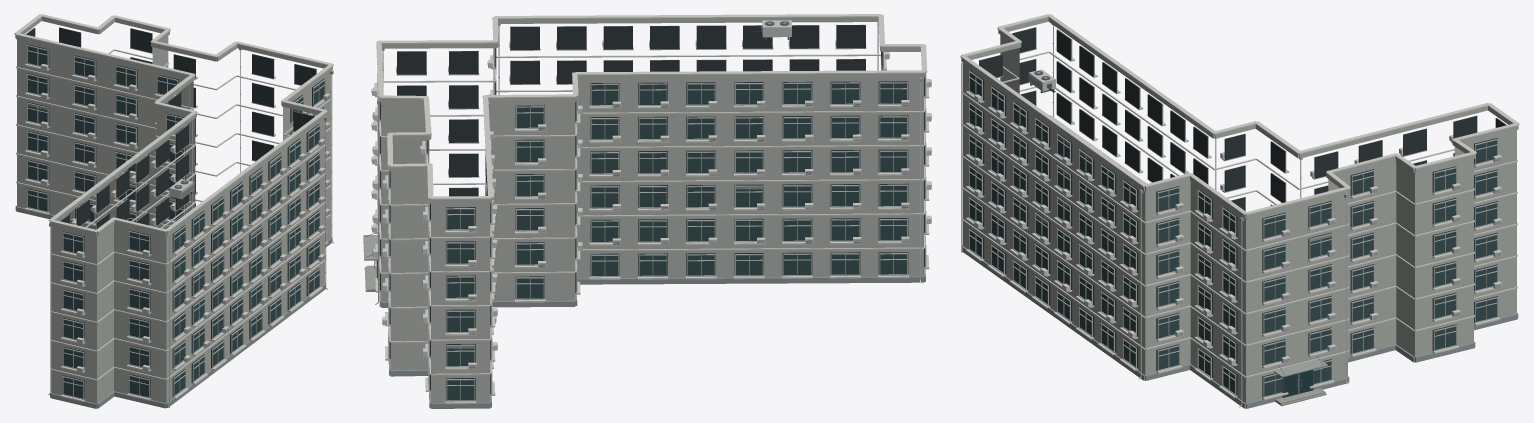
The model's file is osm_way_225250617.glb.
3 renders of one model, left to right at view 1: azimuth 30°, elevation 25°; view 2: azimuth 150°, elevation 25°; view 3: azimuth 270°, elevation 25°, orthographic. The views are drawn at different scales.
Parts seen in each view (by area): view 1: Architecture | 36, Windows and facade details | 36, Roof services | 36, EXTERIOR::osm_way_225250617::rainwater and roof service deta, EXTERIOR::osm_way_225250617::native pane seals and hardware; view 2: Architecture | 36, Windows and facade details | 36, Roof services | 36, EXTERIOR::osm_way_225250617::rainwater and roof service deta, EXTERIOR::osm_way_225250617::inferred entry doors canopy and; view 3: Architecture | 36, Windows and facade details | 36, Roof services | 36, EXTERIOR::osm_way_225250617::rainwater and roof service deta, EXTERIOR::osm_way_225250617::inferred entry doors canopy and.
Part boxes in pixels (left/top/right/bottom): Architecture | 36: left=15, top=17, right=332, bottom=408; Windows and facade details | 36: left=25, top=27, right=330, bottom=407; Roof services | 36: left=14, top=14, right=333, bottom=232; EXTERIOR::osm_way_225250617::rainwater and roof service deta: left=48, top=48, right=334, bottom=394; EXTERIOR::osm_way_225250617::native pane seals and hardware: left=28, top=59, right=324, bottom=389; Architecture | 36: left=379, top=17, right=925, bottom=408; Windows and facade details | 36: left=371, top=22, right=931, bottom=404; Roof services | 36: left=376, top=14, right=927, bottom=199; EXTERIOR::osm_way_225250617::rainwater and roof service deta: left=375, top=20, right=921, bottom=304; EXTERIOR::osm_way_225250617::inferred entry doors canopy and: left=363, top=233, right=379, bottom=291; Architecture | 36: left=961, top=17, right=1518, bottom=408; Windows and facade details | 36: left=961, top=27, right=1506, bottom=400; Roof services | 36: left=960, top=14, right=1519, bottom=215; EXTERIOR::osm_way_225250617::rainwater and roof service deta: left=1028, top=24, right=1348, bottom=407; EXTERIOR::osm_way_225250617::inferred entry doors canopy and: left=1274, top=355, right=1327, bottom=406.
Size of the model in its own units: 43.5 by 20.58 by 51.29.
